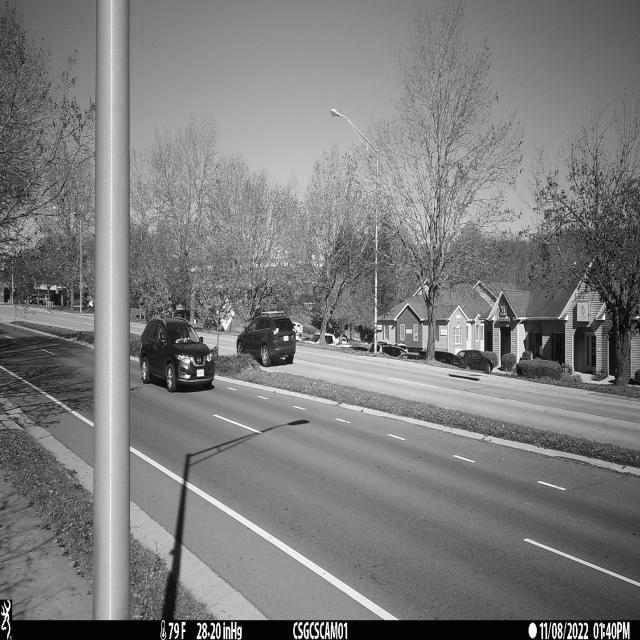SUV: (139, 316, 214, 393)
